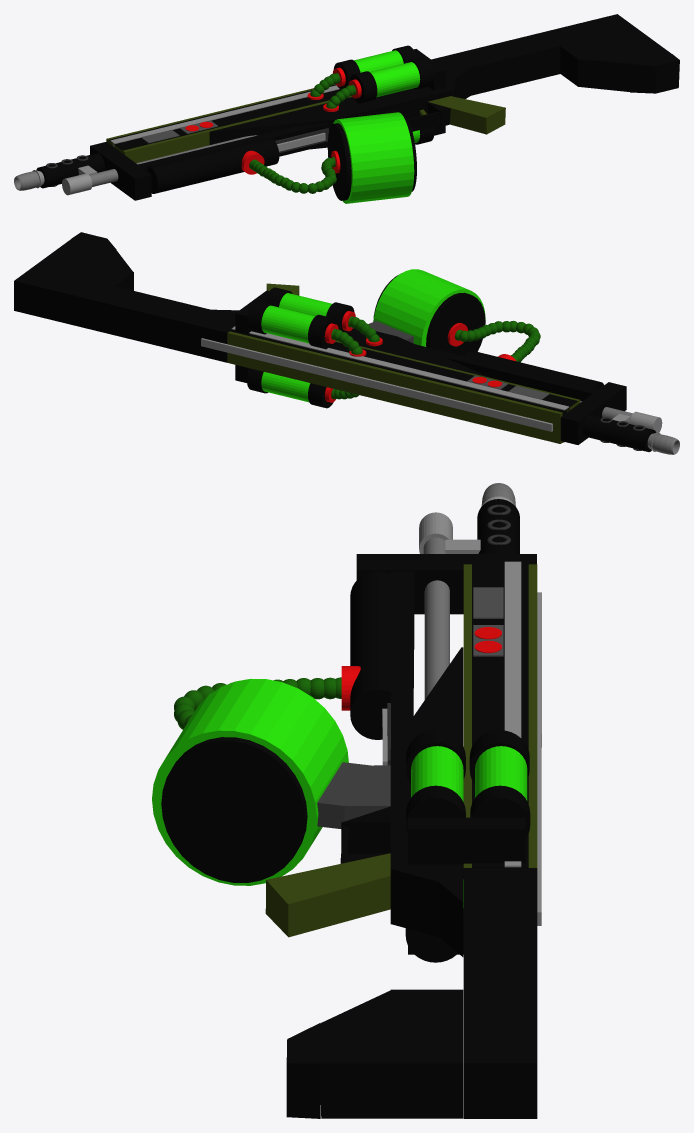
The model's file is Autoshotgun 1.fbx.
3 views of the same model, one above another, from view 1: azimuth 30°, elevation 25°; view 2: azimuth 150°, elevation 25°; view 3: azimuth 270°, elevation 25° (orthographic). The views are drawn at different scales.
Parts seen in each view (by area): view 1: Cube.003, Cylinder.002, Cylinder.001, Cube.005, Cube.001, Cube, Cube.004, Cube.002, Cube.021, Cube.008, Cube.014, Cube.006 (+19 smaller); view 2: Cube.003, Cube, Cylinder.002, Cube.019, Cube.021, Cylinder.006, Cube.012, Cube.014, Cube.004, Cube.022, Cylinder.004, Cylinder.021 (+14 smaller); view 3: Cube.003, Cylinder.007, Cylinder.002, Cube.004, Cube.005, Cube.008, Cylinder.001, Cube.021, Cube.025, Cube, Cube.007, Cube.014 (+19 smaller).
Boxes of the visible parts, x1,y1,x2,y2 form: Cube.003: [431, 14, 635, 95]; Cylinder.002: [333, 112, 414, 203]; Cylinder.001: [147, 137, 279, 193]; Cube.005: [579, 41, 671, 91]; Cube.001: [314, 83, 454, 124]; Cube: [106, 84, 351, 162]; Cube.004: [560, 28, 653, 86]; Cube.002: [209, 106, 331, 149]; Cube.021: [109, 84, 340, 150]; Cube.008: [427, 96, 505, 134]; Cube.014: [90, 142, 151, 200]; Cube.006: [630, 54, 679, 93]; Cube.003: [14, 266, 235, 362]; Cube: [227, 331, 580, 443]; Cylinder.002: [373, 269, 485, 346]; Cube.019: [201, 338, 552, 431]; Cube.021: [230, 329, 577, 442]; Cylinder.006: [426, 292, 485, 355]; Cube.012: [416, 344, 598, 401]; Cube.014: [560, 382, 626, 444]; Cube.004: [34, 252, 133, 290]; Cube.022: [231, 326, 568, 442]; Cylinder.004: [583, 414, 656, 451]; Cylinder.021: [261, 305, 314, 343]; Cube.003: [463, 868, 537, 1118]; Cylinder.007: [161, 737, 307, 882]; Cylinder.002: [152, 678, 348, 885]; Cube.004: [390, 989, 463, 1118]; Cube.005: [319, 990, 392, 1118]; Cube.008: [265, 853, 390, 937]; Cylinder.001: [350, 571, 393, 739]; Cube.021: [472, 563, 528, 867]; Cube.025: [408, 817, 525, 864]; Cube: [463, 564, 537, 867]; Cube.007: [391, 869, 463, 956]; Cube.014: [356, 554, 536, 614].
Bounding box in the file's own units: 10266 × 1322 × 2843.
